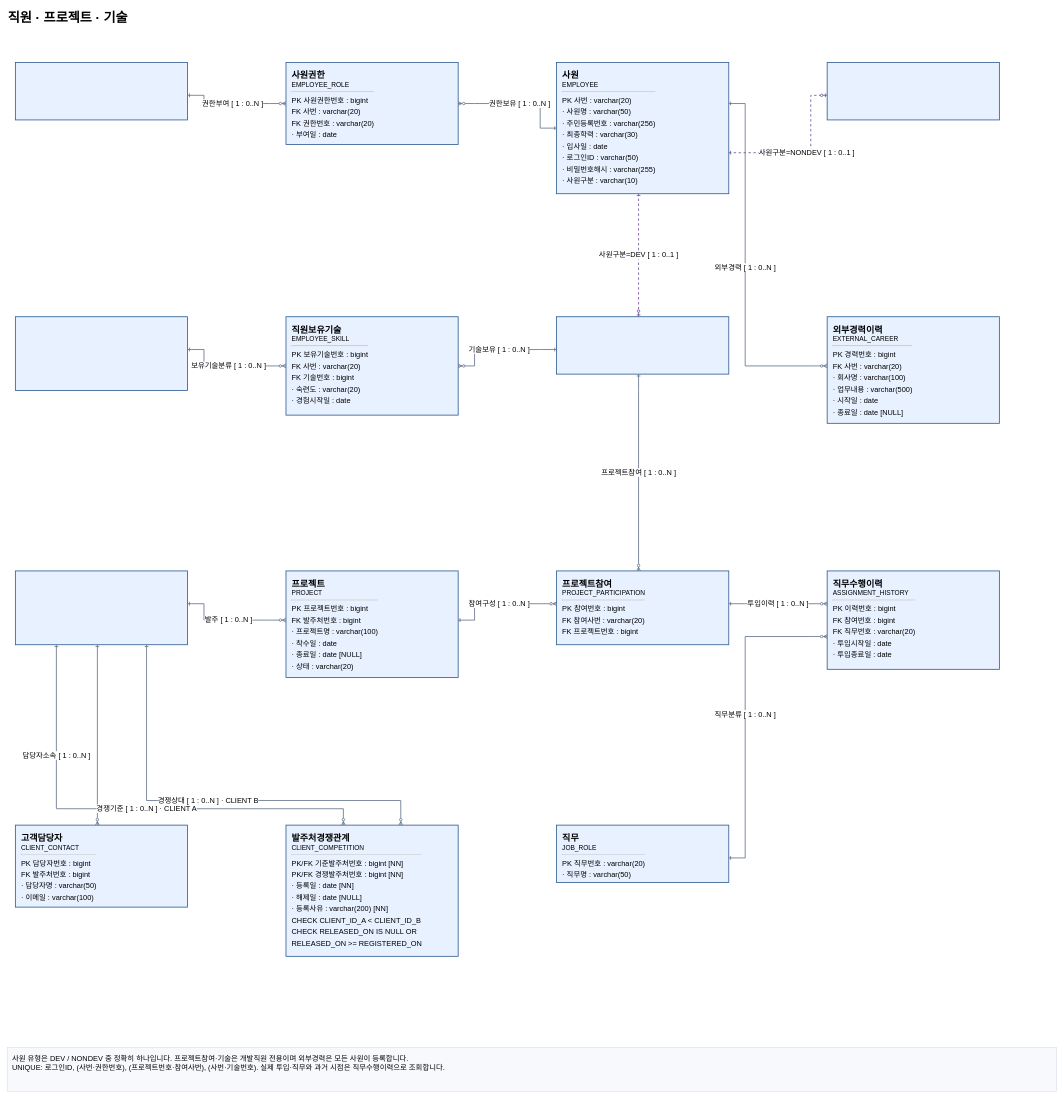
This 1064x1099 diagram has some shape labels left out. Each missing label, with the box of its shape:
개발직원 DEVELOPER PK/FK 사번 : varchar(20) · 기술등급 : varchar(20): (556, 316, 729, 374)
권한 ACCESS_ROLE PK 권한번호 : varchar(20) · 권한명 : varchar(50): (15, 62, 188, 120)
기술 SKILL PK 기술번호 : bigint · 기술명 : varchar(100) · 기술분류 : varchar(50): (15, 316, 188, 391)
발주처 CLIENT PK 발주처번호 : bigint · 발주처명 : varchar(100) · 사업자등록번호 : varchar(20): (15, 570, 188, 645)
비개발직원 NON_DEVELOPER PK/FK 사번 : varchar(20) · 소속부서 : varchar(50): (827, 62, 1000, 120)
